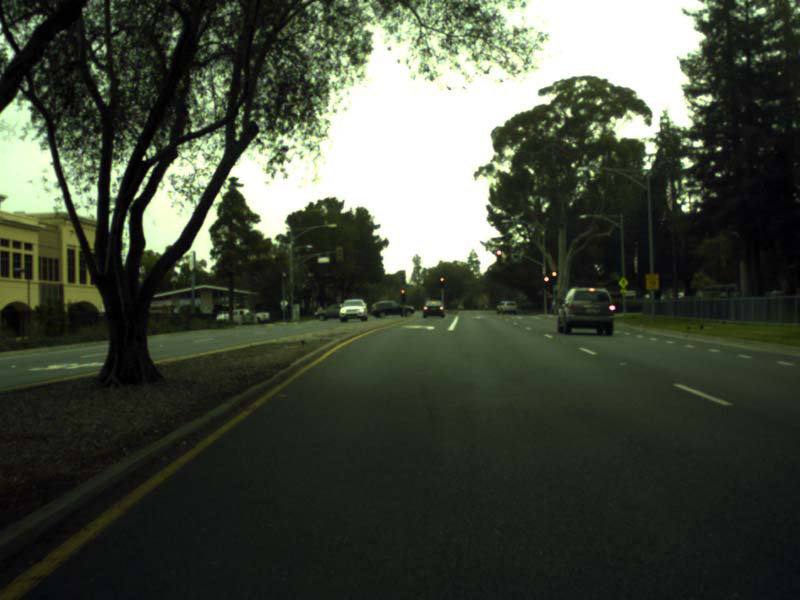Red: (543, 276, 549, 290), (551, 271, 557, 285), (496, 250, 502, 263), (439, 276, 445, 288), (400, 289, 405, 303)
